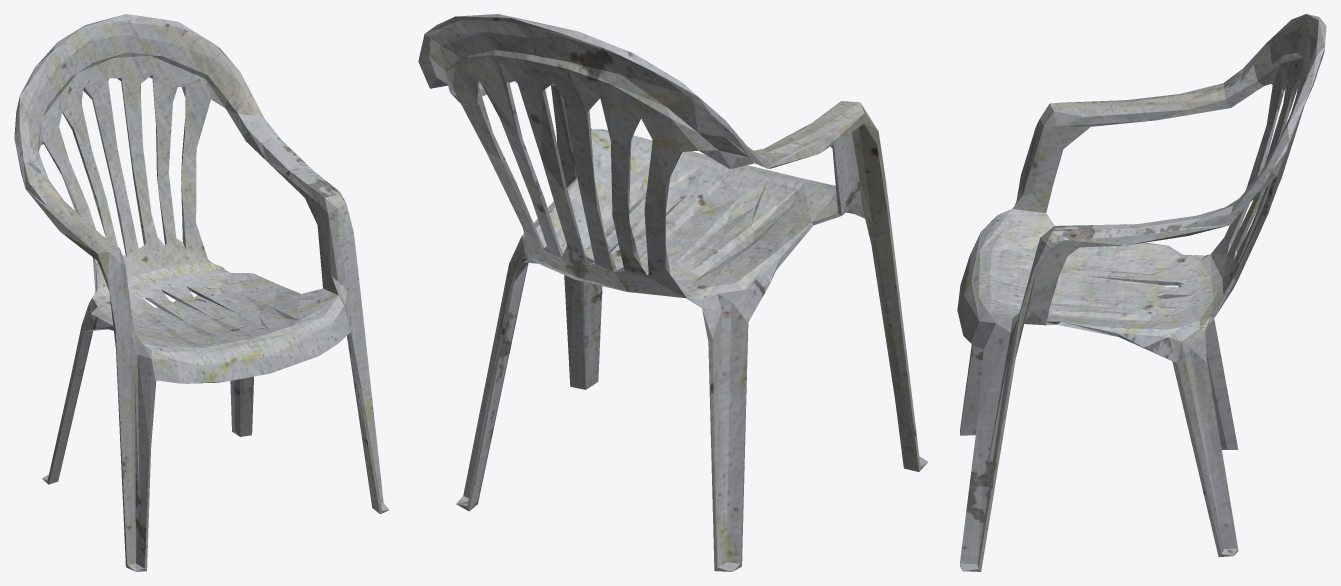
Rendered from SillaBlanca.fbx.
3 renders of one model, left to right at view 1: azimuth 30°, elevation 25°; view 2: azimuth 150°, elevation 25°; view 3: azimuth 270°, elevation 25°, orthographic. The views are drawn at different scales.
Parts seen in each view (by area): view 1: PlasticChairMonobloc_plastic_chair; view 2: PlasticChairMonobloc_plastic_chair; view 3: PlasticChairMonobloc_plastic_chair.
Boxes of the visible parts, box(x1,y1,x2,y2) form: PlasticChairMonobloc_plastic_chair: box(14, 14, 389, 571); PlasticChairMonobloc_plastic_chair: box(418, 14, 928, 571); PlasticChairMonobloc_plastic_chair: box(957, 14, 1326, 571).
Bounding box in the file's own units: 33.95 × 51.45 × 36.91.
